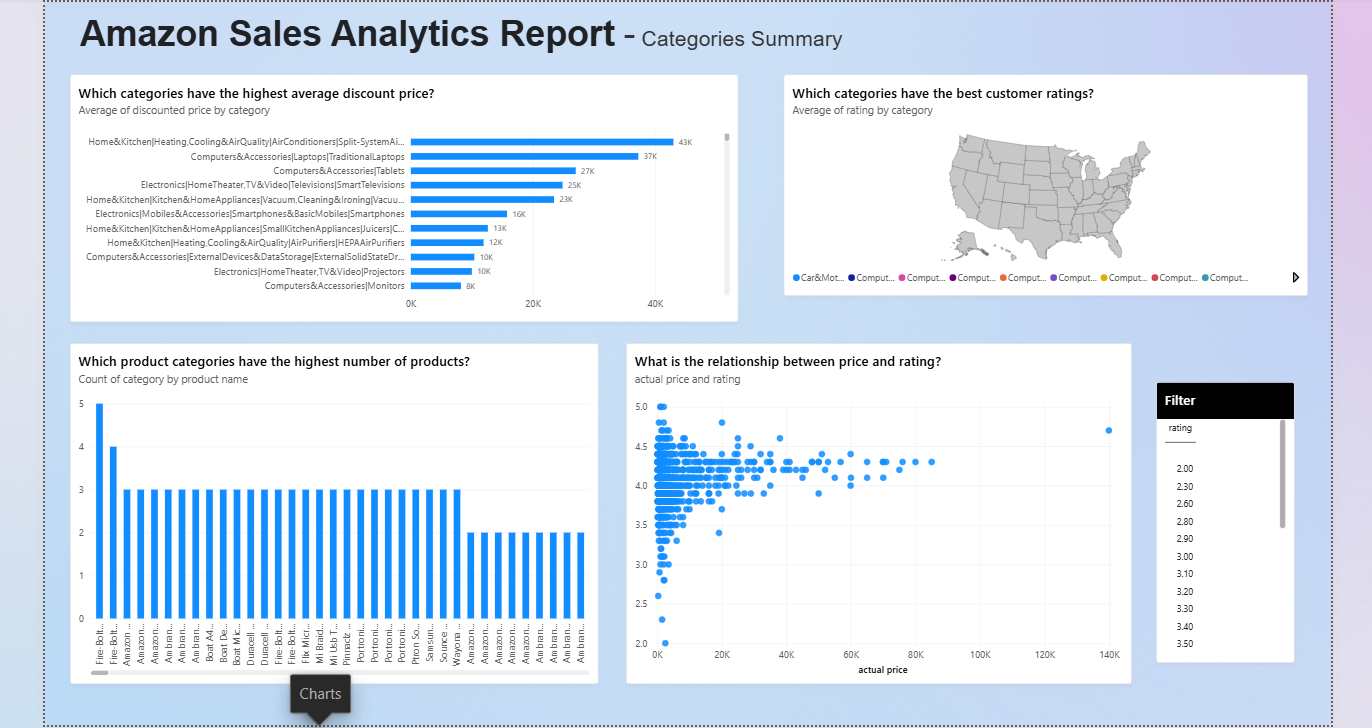

The dashboard page shown, as its layout file describes it:
{"tool":"powerbi","page":{"name":"Charts","canvas":[1920,1080],"ordinal":1},"visuals":[{"type":"columnChart","title":"Which product categories have the highest number of products?","fields":{"Category":["Sheet1.product name"],"Y":["CountNonNull(Sheet1.category)"]},"box":[37,508.7,789.1,508.7],"z":0},{"type":"clusteredBarChart","title":"Which categories have the highest average discount price?","fields":{"Category":["Sheet1.category"],"Y":["Avg(Sheet1.discounted price)"]},"box":[37,108.7,997.8,369.6],"z":1000},{"type":"shapeMap","title":"Which categories have the best customer ratings?","fields":{"Series":["Sheet1.category"],"Value":["Avg(Sheet1.rating)"]},"box":[1102.2,108.7,782.6,330.4],"z":2000},{"type":"tableEx","title":"Filter","fields":{"Values":["Sheet1.rating"]},"box":[1658.7,567.4,206.5,419.6],"z":3000},{"type":"textbox","box":[37,17.4,1847.8,91.3],"z":4000},{"type":"scatterChart","title":"What is the relationship between price and rating?","fields":{"X":["Sheet1.actual price"],"Y":["Sheet1.rating"]},"box":[867.4,508.7,754.3,508.7],"z":4001}]}

Visuals, with their boxes on the page's 1920x1080 design canvas (x1, y1, x2, y2). These are canvas units, not pixel positions in the 1372x728 screenshot, which may show the page scaled, cropped or inside an application window:
"Which product categories have the highest number of products?" columnChart: 37,509,826,1017
"Which categories have the highest average discount price?" clusteredBarChart: 37,109,1035,478
"Which categories have the best customer ratings?" shapeMap: 1102,109,1885,439
"Filter" tableEx: 1659,567,1865,987
textbox: 37,17,1885,109
"What is the relationship between price and rating?" scatterChart: 867,509,1622,1017
